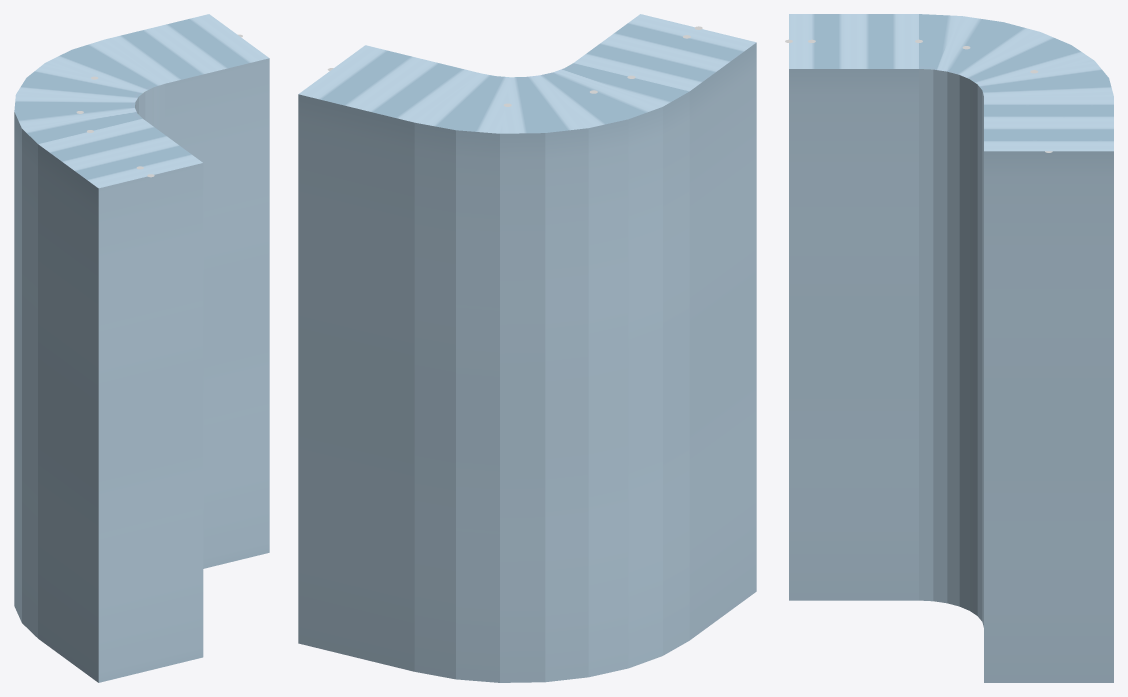
Rendered from 1_saga_donen_parkur.fbx.
The picture shows the model from 3 angles, left to right: view 1: azimuth 30°, elevation 25°; view 2: azimuth 150°, elevation 25°; view 3: azimuth 270°, elevation 25°; orthographic projection. The views are drawn at different scales.
Parts seen in each view (by area): view 1: road.003; view 2: road.003; view 3: road.003.
Boxes of the visible parts, box(x1,y1,x2,y2) form: road.003: box(14, 14, 269, 682); road.003: box(298, 14, 756, 682); road.003: box(789, 14, 1113, 682).
Bounding box in the file's own units: 3072 × 5479 × 3072.
